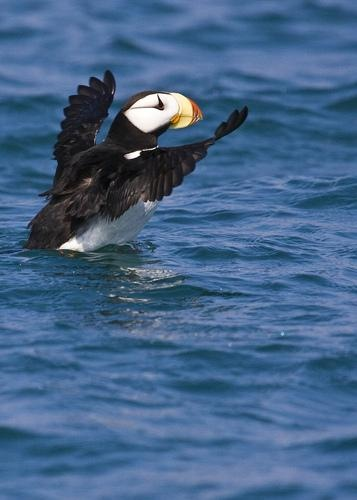bird: (34, 64, 251, 263)
